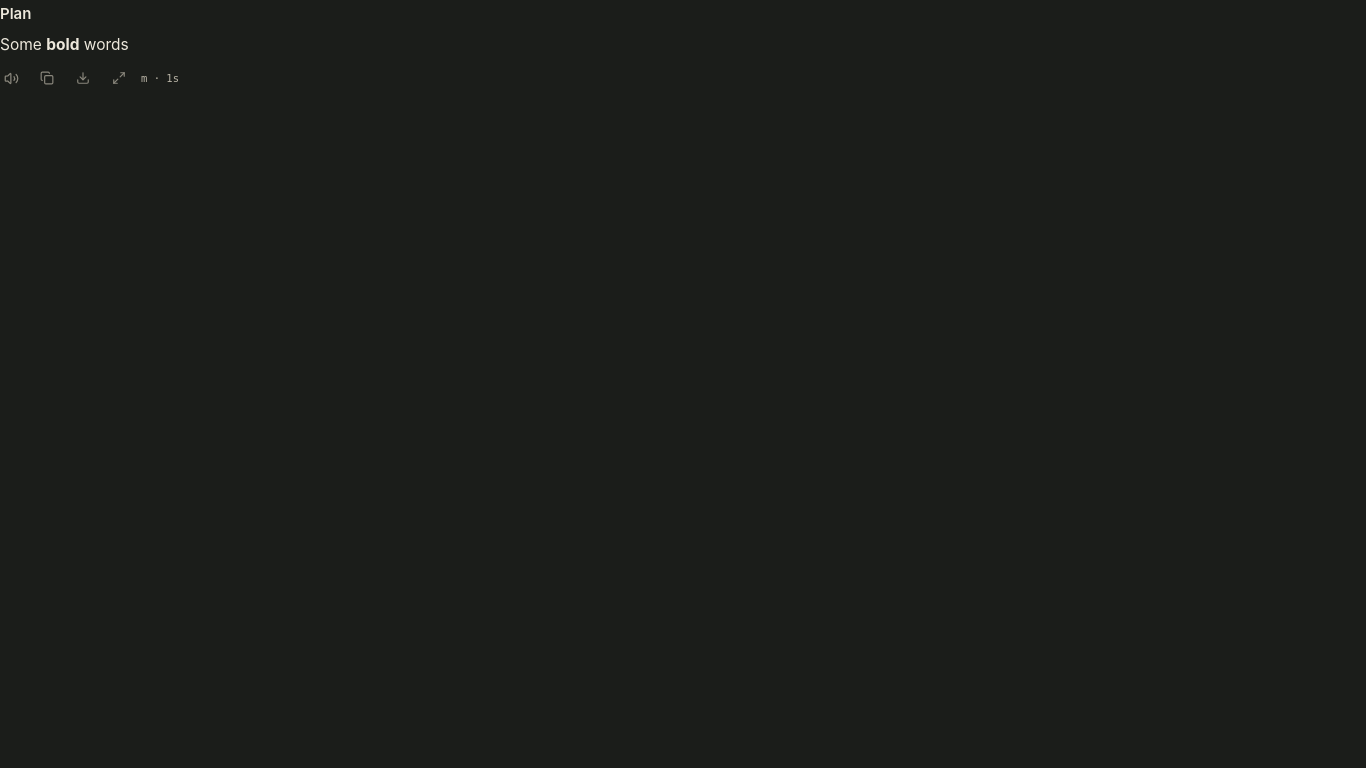
MessageBubble › opens a reply in a full-screen reading view, titled after the chat, and closes it again
Step 1. Click the button named "Open in reading view" → (119, 78), box top-left (102, 61), bottom-right (136, 95)
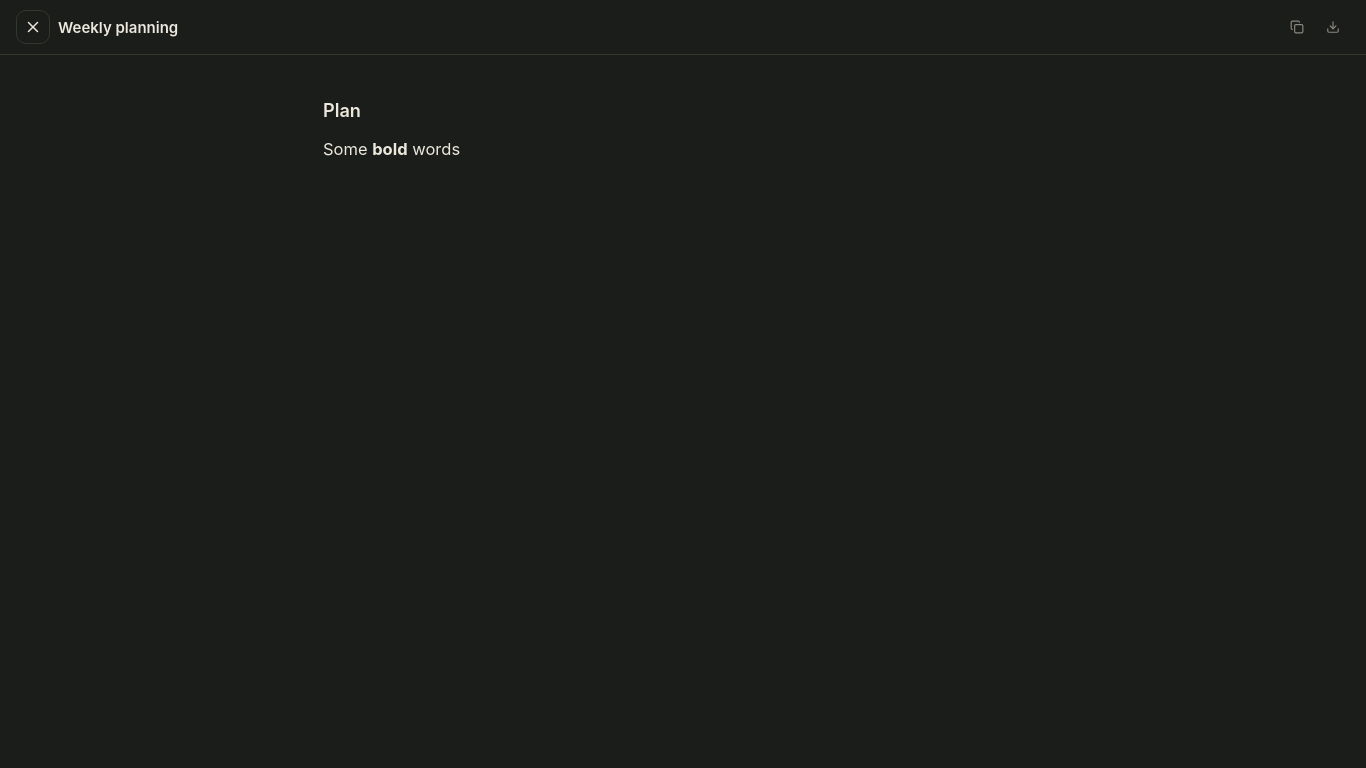
expect the dialog named "Reading: Weekly planning" is shown: met
expect the button named "Save reply as a file" is shown: met, box top-left (1316, 10), bottom-right (1350, 44)
Step 2. Press Escape
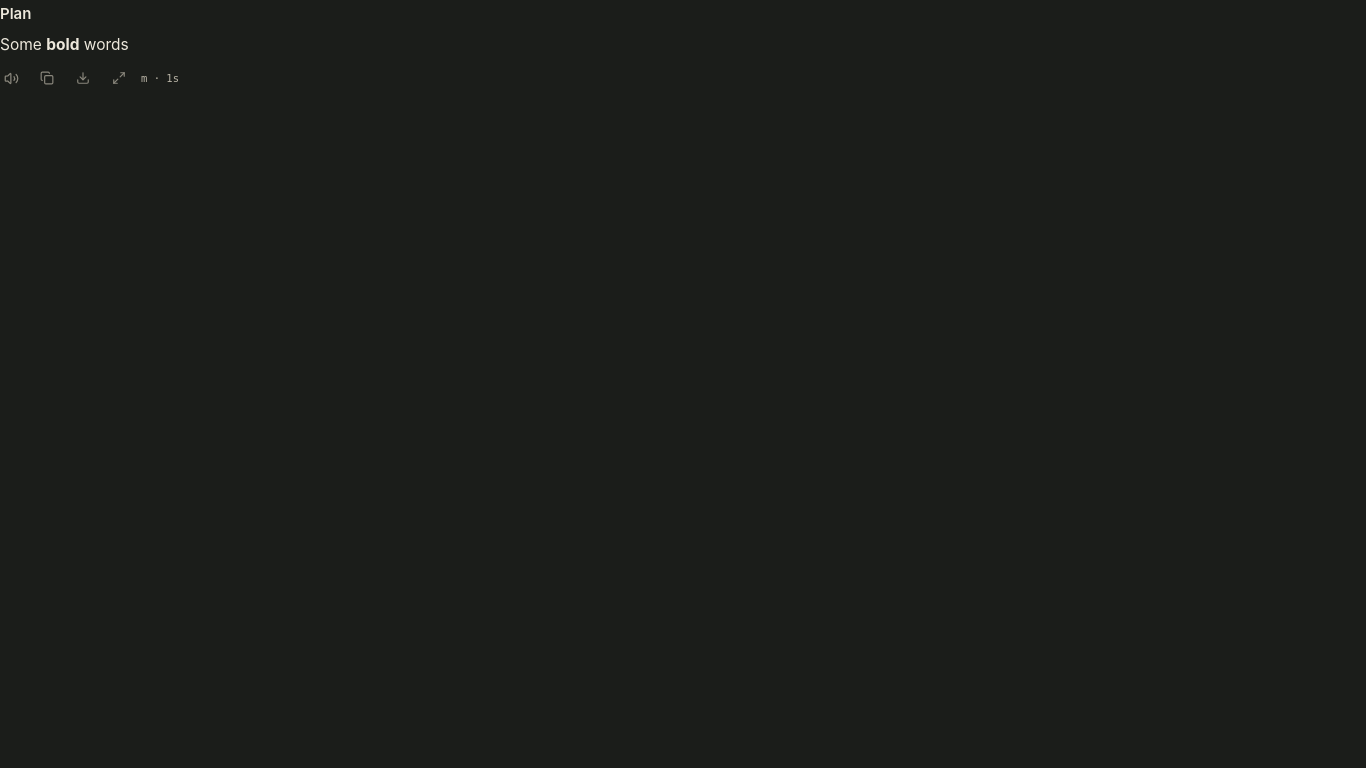
expect the dialog is gone: met
Step 3. Click the button named "Open in reading view" → (119, 78), box top-left (102, 61), bottom-right (136, 95)
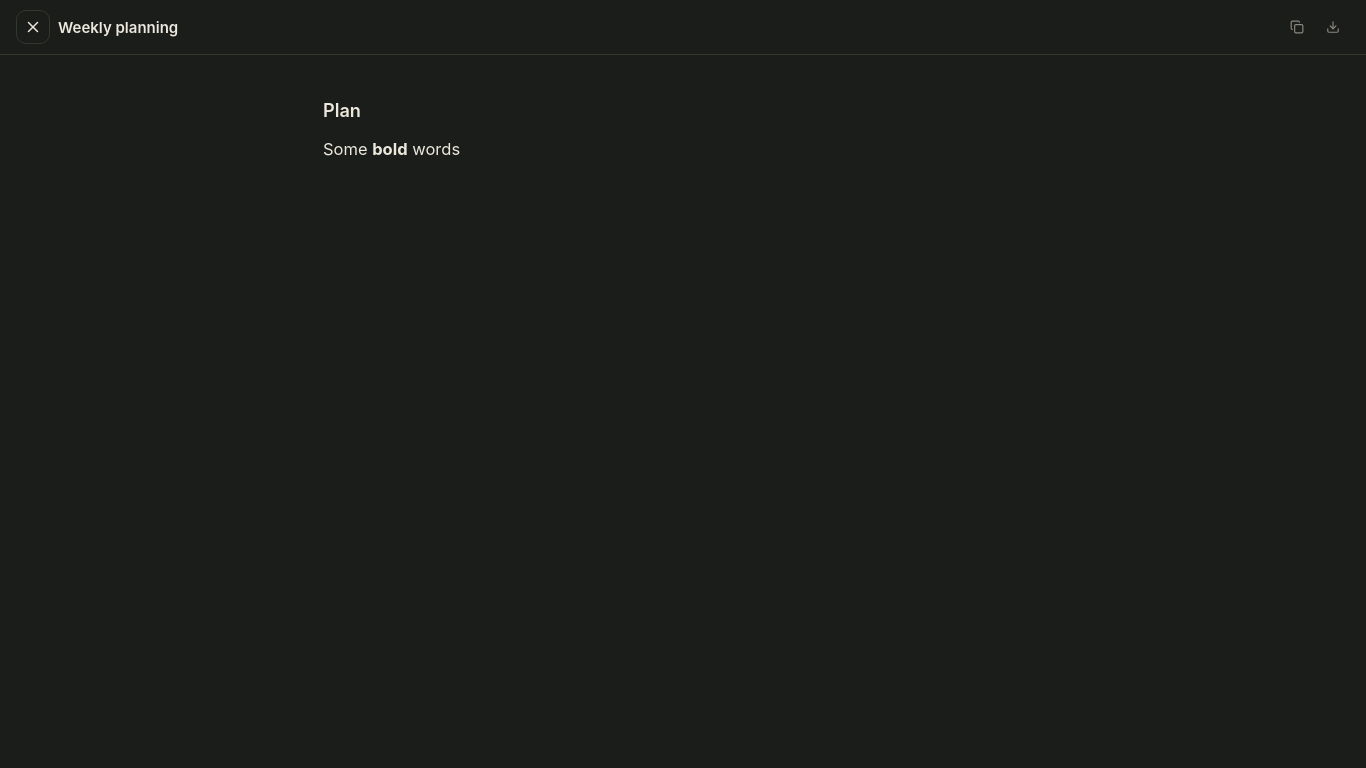
Step 4. Click the button named "Close reading view" → (33, 27), box top-left (16, 10), bottom-right (50, 44)
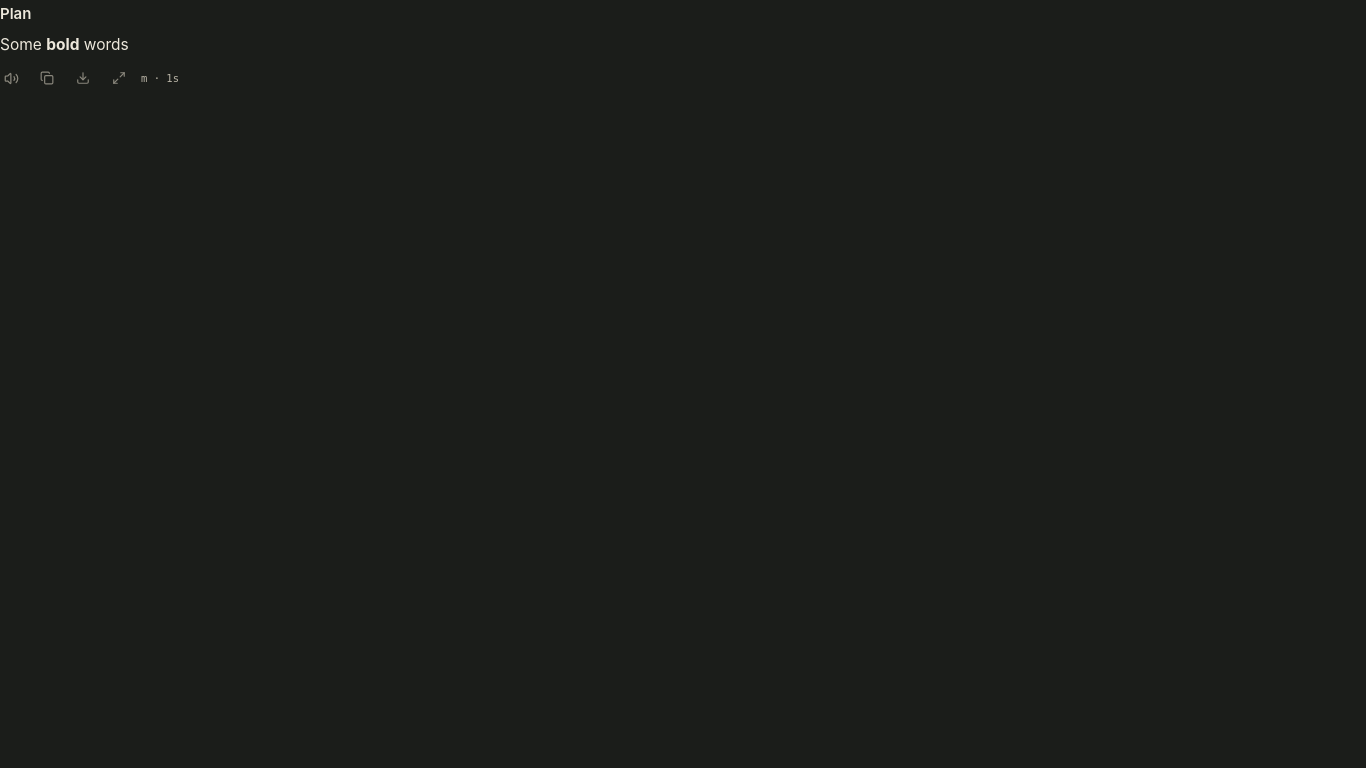
expect the dialog is gone: met
